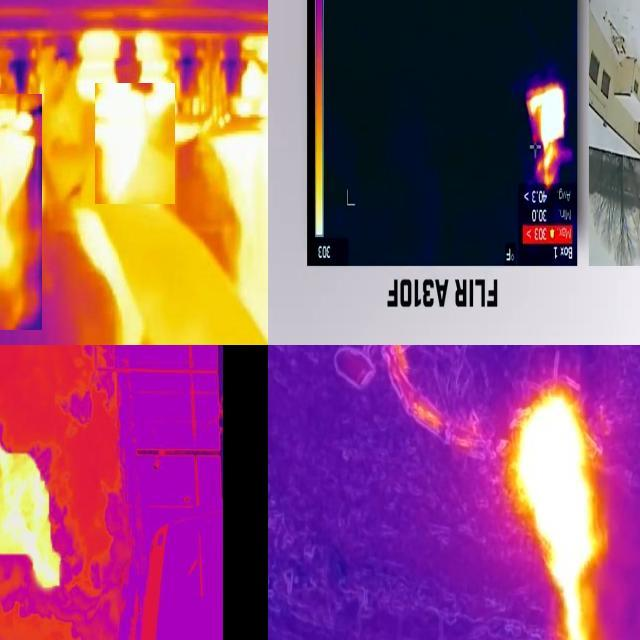fire: (511, 387, 605, 640), (72, 27, 181, 196), (70, 201, 148, 346), (1, 438, 67, 597), (215, 35, 270, 195), (1, 95, 41, 193), (530, 83, 568, 152)
